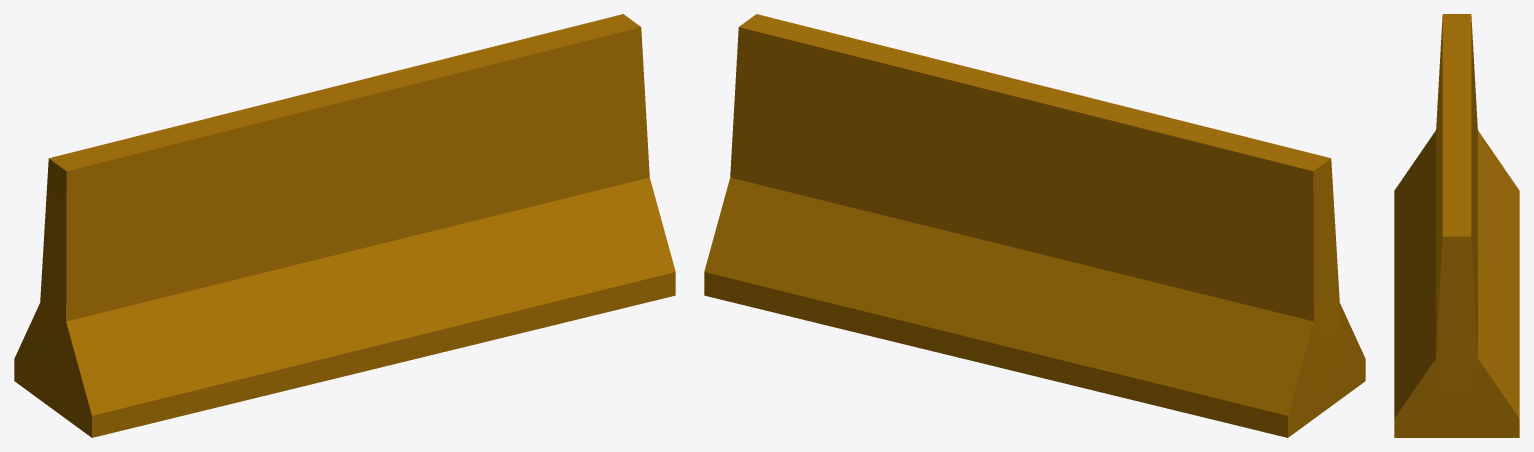
The model's file is concrete_Barrier_Hor_lo.fbx.
3 renders of one model, left to right at view 1: azimuth 30°, elevation 25°; view 2: azimuth 150°, elevation 25°; view 3: azimuth 270°, elevation 25°, orthographic. The views are drawn at different scales.
Parts seen in each view (by area): view 1: barrier_concrete_horizontal_lo; view 2: barrier_concrete_horizontal_lo; view 3: barrier_concrete_horizontal_lo.
Boxes of the visible parts, x1,y1,x2,y2 form: barrier_concrete_horizontal_lo: (14,14,675,437); barrier_concrete_horizontal_lo: (704,14,1365,437); barrier_concrete_horizontal_lo: (1394,14,1519,437).
Bounding box in the file's own units: 260 × 105 × 60.
